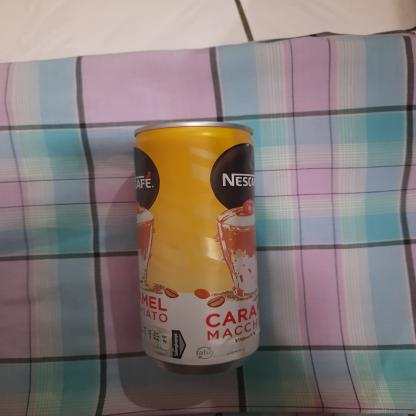can: (127, 118, 265, 380)
